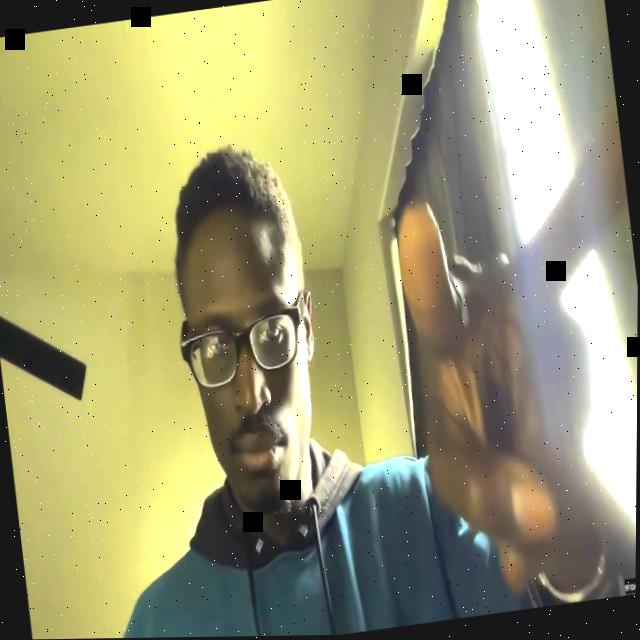Scissors: (380, 106, 639, 610)
